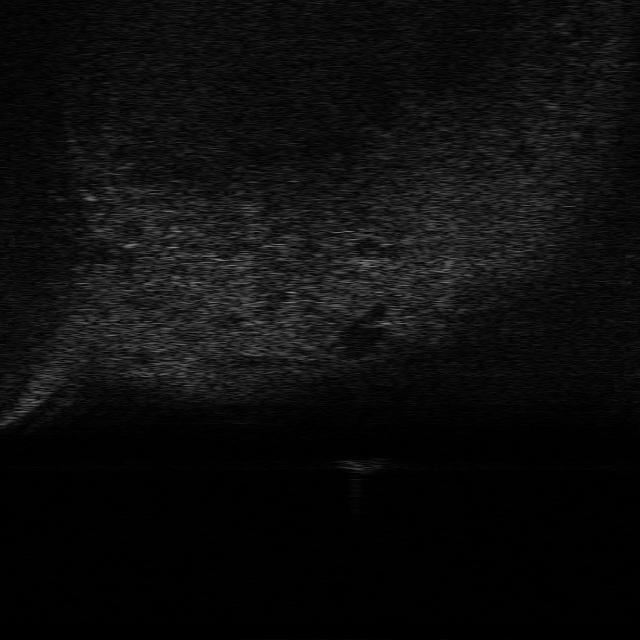cube: (338, 455, 387, 476)
